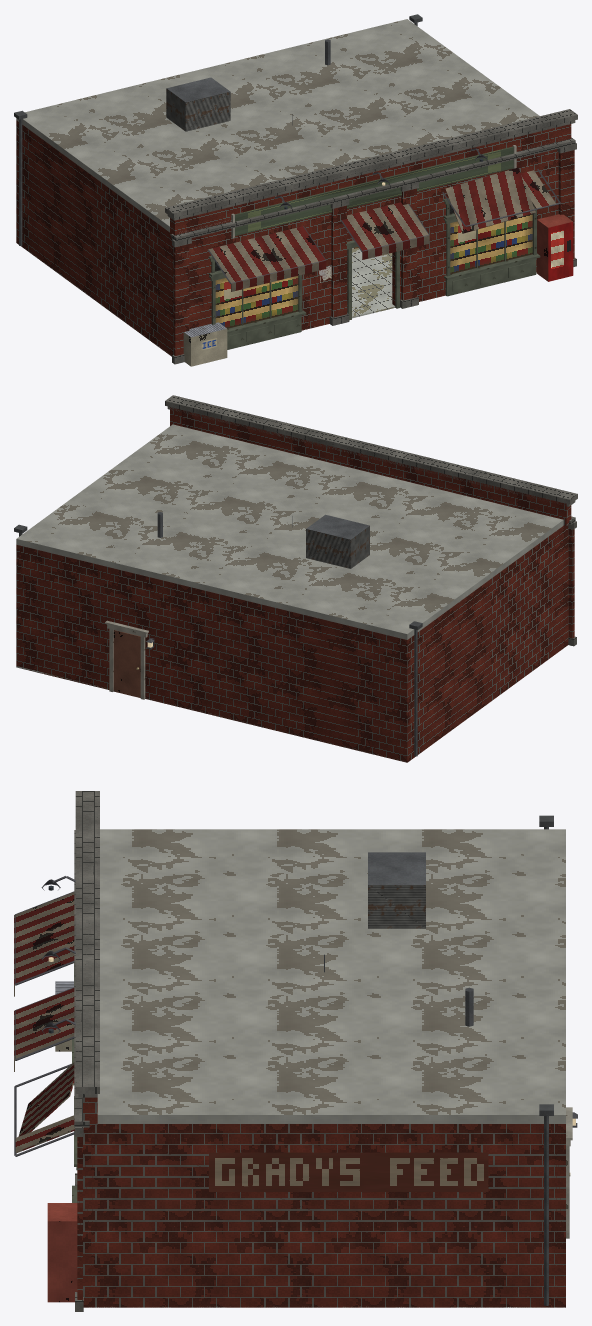
The model's file is grady_store.glb.
The picture shows the model from 3 angles, top to bottom: view 1: azimuth 30°, elevation 25°; view 2: azimuth 150°, elevation 25°; view 3: azimuth 270°, elevation 25°; orthographic projection. The views are drawn at different scales.
Visible parts, largest first — view 1: shell-col, detail; view 2: shell-col, detail; view 3: shell-col, detail.
Boxes of the visible parts, bbox=[...] form: shell-col: bbox=[16, 19, 571, 356]; detail: bbox=[14, 14, 577, 366]; shell-col: bbox=[16, 407, 571, 762]; detail: bbox=[14, 395, 577, 756]; shell-col: bbox=[83, 829, 565, 1307]; detail: bbox=[14, 791, 577, 1311].
Bounding box in the file's own units: 14.5 × 5.63 × 11.68.
Materials: 43 (43 with a texture image).
